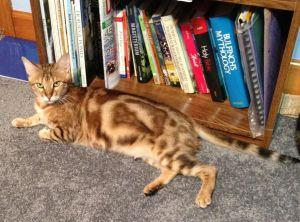bengal: (18, 49, 84, 108)
